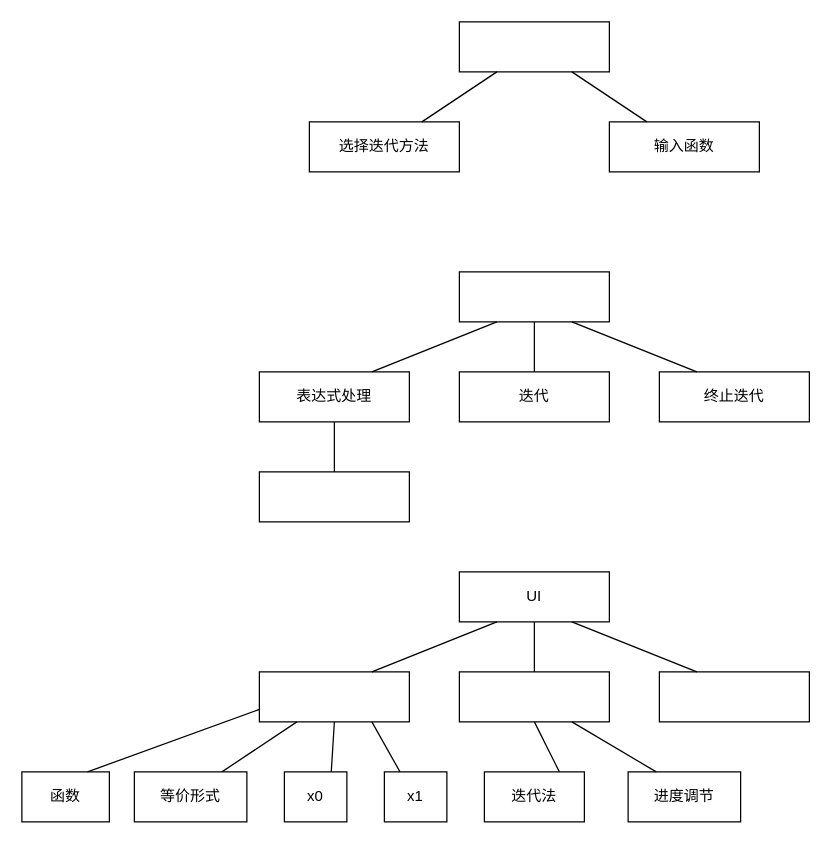
The diagram is 831 pixels wide and 844 high, and some of its shapes have lost their labels. The centre of each missing label's shape, as x and y in pixels:
"图像区域" goes at point (733, 696).
"图像绘制" goes at point (333, 496).
"数据处理模块" goes at point (533, 296).
"用户功能模块" goes at point (533, 46).
"输入框" goes at point (333, 696).
"选项" goes at point (533, 696).
